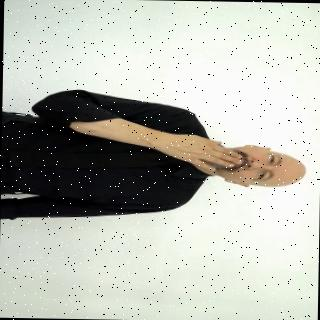ThankYou: (0, 88, 307, 225)
